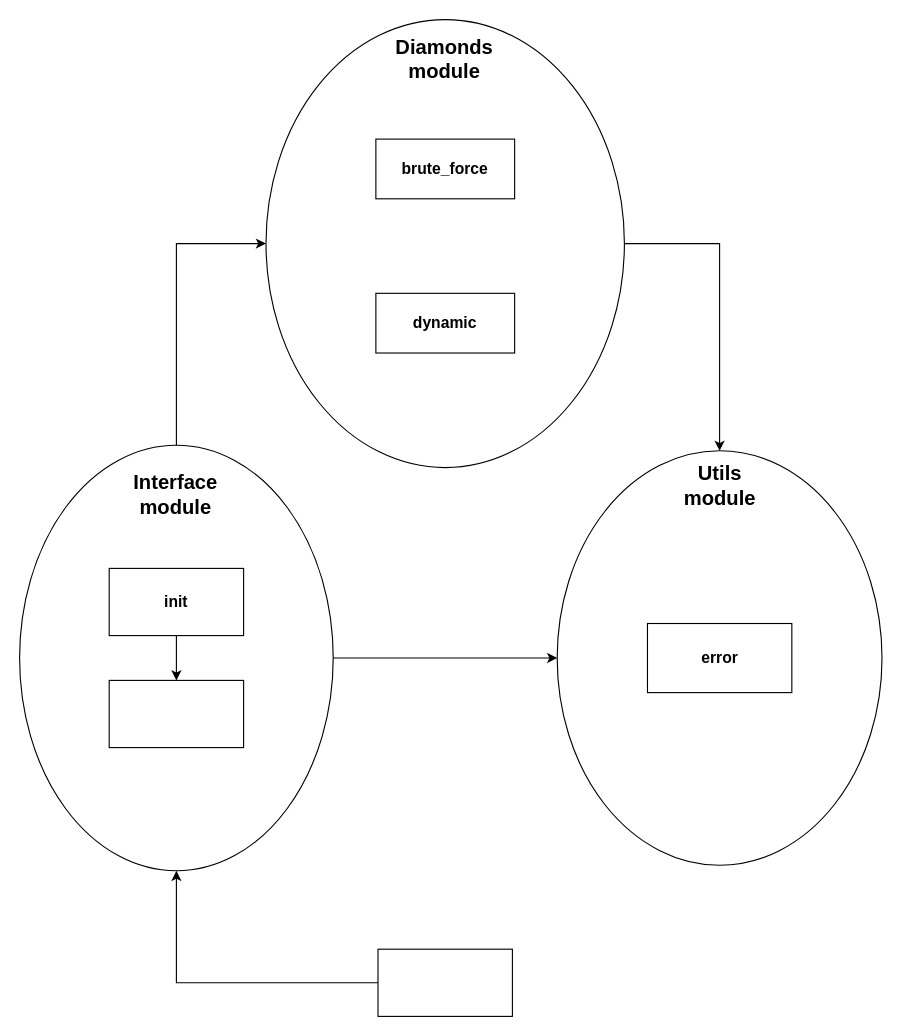
This 902x1036 diagram has some shape labels left out. The shapes that lost their labels are listed below. From the top down, each one's box as (x1, y1, x2, y2) in pixels, then its label:
(108, 679, 244, 748): manager
(377, 948, 512, 1016): main
